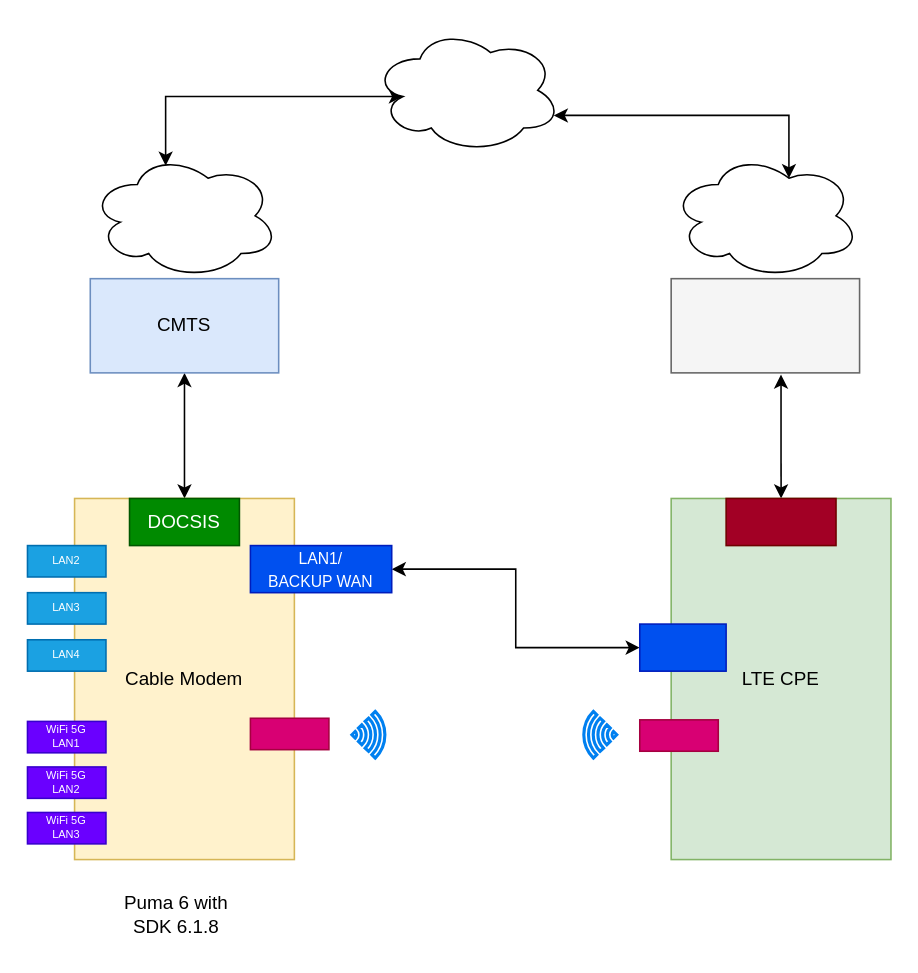
The diagram is 918 pixels wide and 973 high, and some of its shapes have lost their labels. Here are the shapes that lost their labels. From the top down, the centre of each, then its label:
the point at 466,89: Internet
the point at 765,325: Base Station
the point at 780,521: LTE
the point at 682,647: LAN
the point at 289,733: WiFi 5G WAN
the point at 678,734: WiFi 5G LAN
